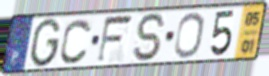5: (209, 9, 236, 58)
C: (59, 17, 94, 66)
F: (95, 13, 135, 66)
G: (28, 17, 63, 70)
O: (172, 10, 206, 60)
S: (132, 11, 168, 64)
